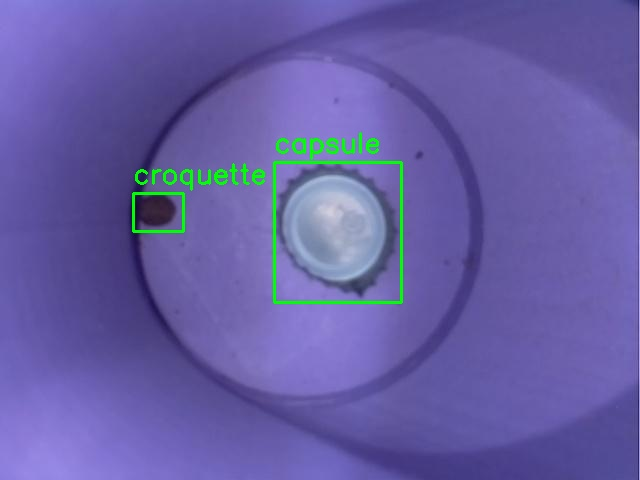capsule: (274, 162, 401, 302)
croquette: (133, 193, 183, 231)
